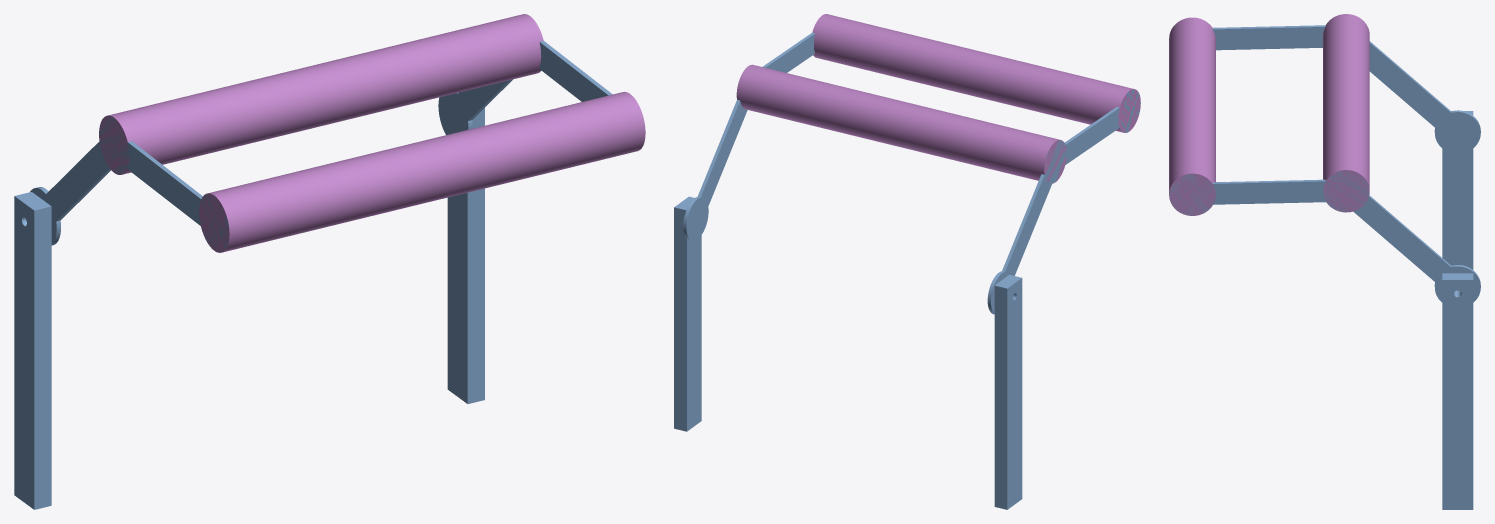
File: Intake.dae
The picture shows the model from 3 angles, left to right: view 1: azimuth 30°, elevation 25°; view 2: azimuth 150°, elevation 25°; view 3: azimuth 270°, elevation 25°; orthographic projection. The views are drawn at different scales.
Parts seen in each view (by area): view 1: 02 - Roller (×2), 2x1 (×2), Rollers; view 2: 02 - Roller (×2), 2x1 (×2), Rollers; view 3: 02 - Roller (×2), Rollers, 2x1 (×2).
Part boxes in pixels (x1,y1,x2,y2): 02 - Roller (×2): (99, 14, 645, 252); 2x1 (×2): (14, 108, 484, 509); Rollers: (30, 40, 612, 252); 02 - Roller (×2): (736, 14, 1140, 183); 2x1 (×2): (674, 196, 1022, 509); Rollers: (683, 32, 1140, 314); 02 - Roller (×2): (1169, 14, 1369, 215); Rollers: (1169, 25, 1480, 302); 2x1 (×2): (1442, 111, 1473, 509).
Size of the model in its own units: 0.6604 by 0.5148 by 0.6074.
